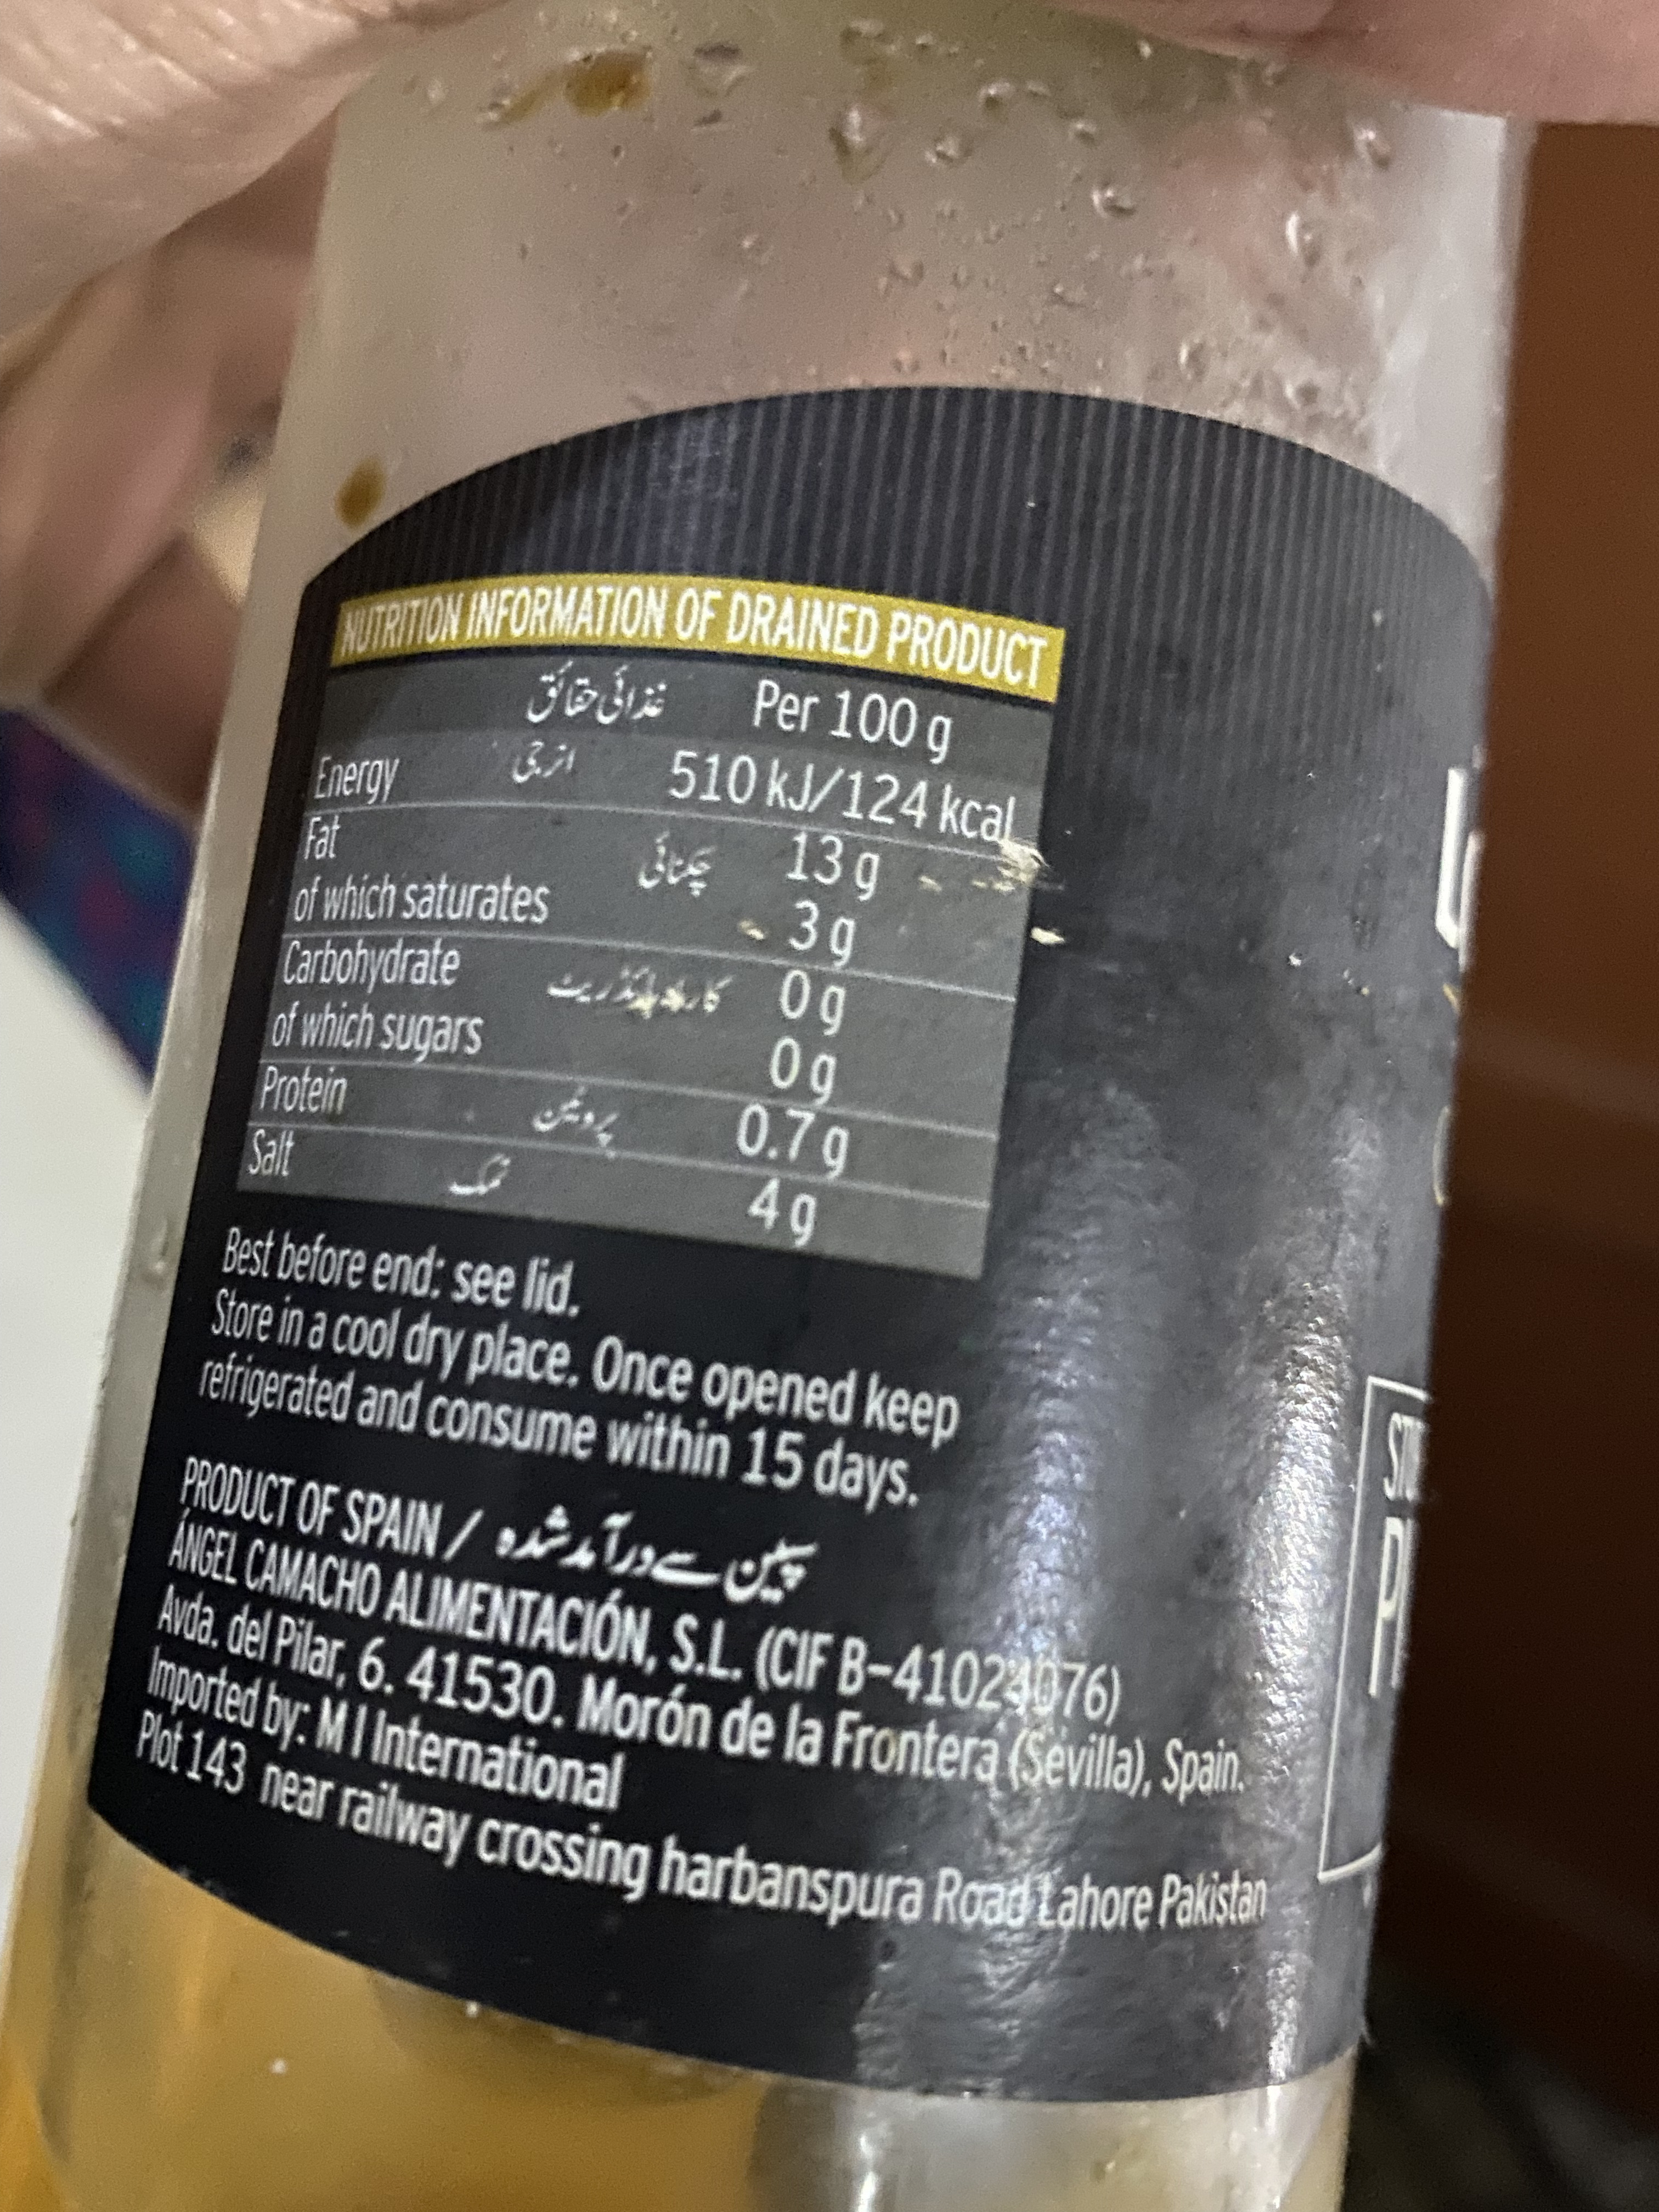table: (230, 573, 1077, 1291)
